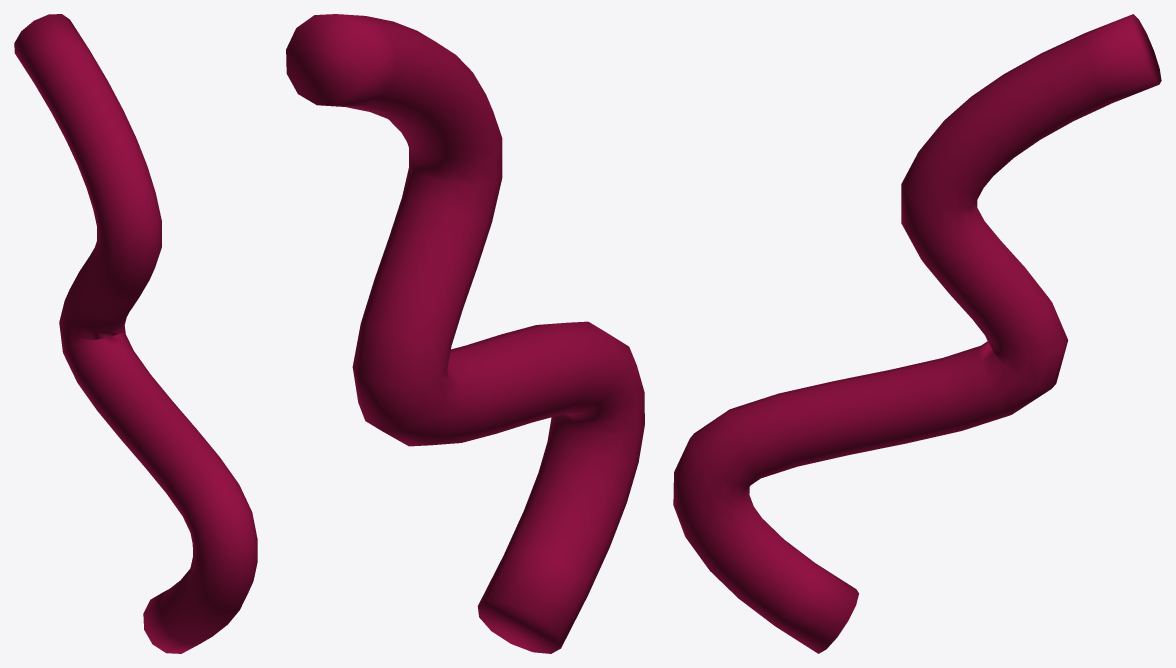
The model's file is droga_002.obj.
3 views of the same model, side by side, from view 1: azimuth 30°, elevation 25°; view 2: azimuth 150°, elevation 25°; view 3: azimuth 270°, elevation 25° (orthographic). The views are drawn at different scales.
Parts seen in each view (by area): view 1: DROGA_002; view 2: DROGA_002; view 3: DROGA_002.
Part boxes in pixels (<box>): DROGA_002: <box>14,14,257,653</box>; DROGA_002: <box>286,14,644,653</box>; DROGA_002: <box>673,14,1161,653</box>.
Size of the model in its own units: 0.2648 by 2.32 by 1.62.
